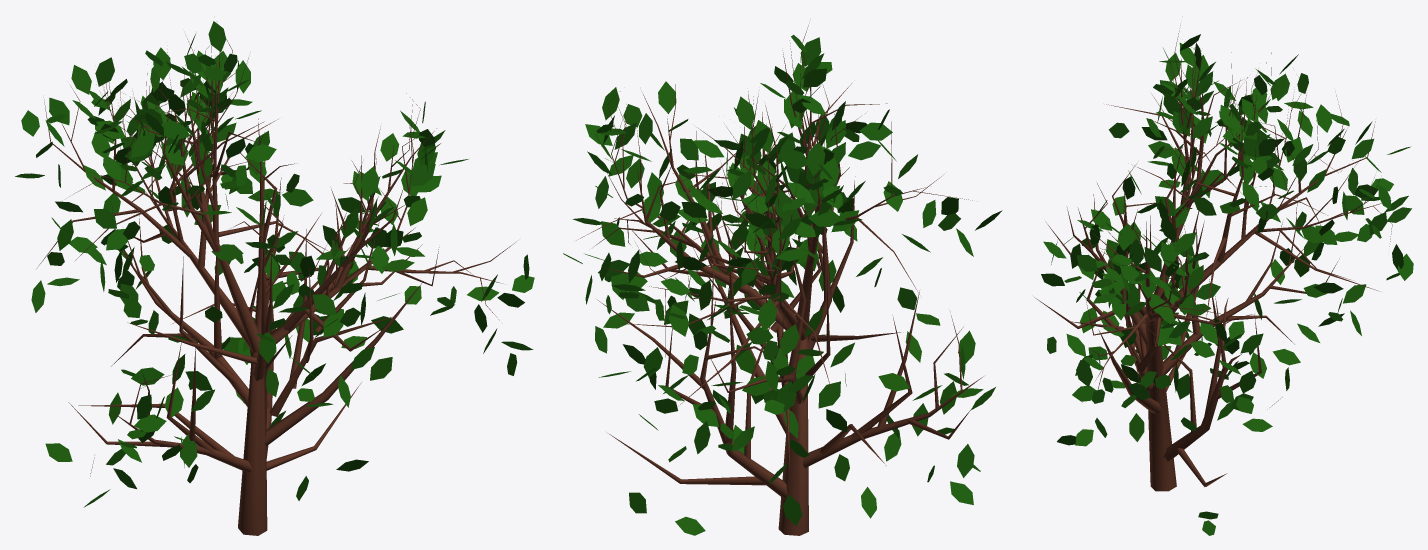
Rendered from Bush.fbx.
The picture shows the model from 3 angles, left to right: view 1: azimuth 30°, elevation 25°; view 2: azimuth 150°, elevation 25°; view 3: azimuth 270°, elevation 25°; orthographic projection. The views are drawn at different scales.
Visible parts, largest first — view 1: Bush; view 2: Bush; view 3: Bush.
Boxes of the visible parts, <box> form: Bush: <box>15,21,534,535</box>; Bush: <box>563,25,1002,535</box>; Bush: <box>1034,25,1413,535</box>.
Bounding box in the file's own units: 191 × 210 × 158.
Materials: 1 (1 with a texture image).
